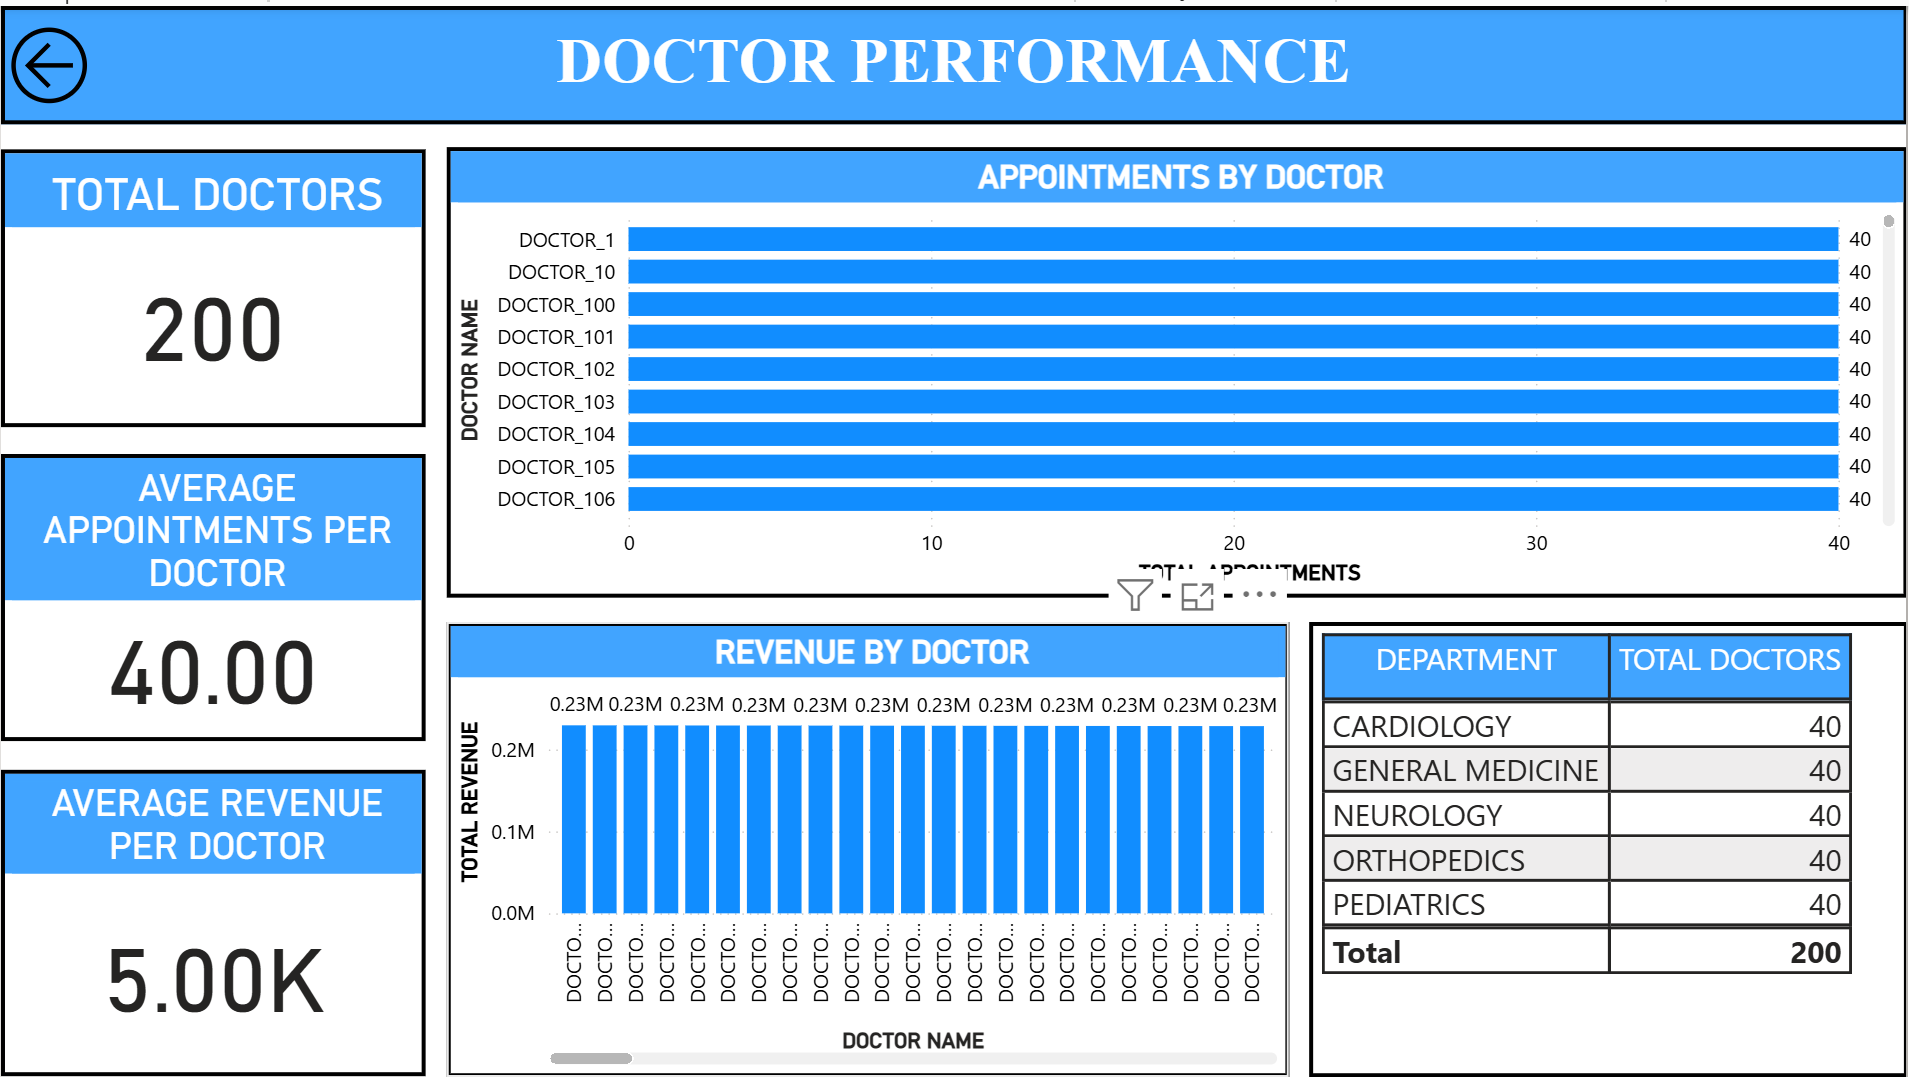

This screenshot's page, from the dashboard's own definition file:
{"tool":"powerbi","page":{"name":"DOCTOR PERFORMANCE","canvas":[1280,720],"ordinal":3},"visuals":[{"type":"clusteredBarChart","title":"APPOINTMENTS BY DOCTOR","fields":{"Y":["Sum(APPOINTMENTS BY DOCTOR.TOTAL_APPOINTMENTS)"],"Category":["APPOINTMENTS BY DOCTOR.DOCTOR_NAME"]},"box":[299.5,95.2,981.1,302.6],"z":0},{"type":"columnChart","title":"REVENUE BY DOCTOR","fields":{"Category":["REVENUE BY DOCTOR:.DOCTOR_NAME"],"Y":["Sum(REVENUE BY DOCTOR:.TOTAL_REVENUE)"]},"box":[299.5,413.4,566.2,305.7],"z":1000},{"type":"tableEx","fields":{"Values":["DOCTOR VS DEPARTMENT.DEPARTMENT","Sum(DOCTOR VS DEPARTMENT.TOTAL_DOCTORS)"]},"box":[878.2,413.4,402.4,305.7],"z":2000},{"type":"card","title":"AVERAGE REVENUE PER DOCTOR","fields":{"Values":["Sum(AVERAGE REVENUE PER DOCTOR.AVERAGE_REVENUE_PER_DOCTOR)"]},"box":[0,513.9,285.3,205.9],"z":3000},{"type":"card","title":"TOTAL DOCTORS","fields":{"Values":["Sum(TOTAL_DOCTORS.TOTAL_DOCTORS)"]},"box":[0,95.6,285.3,186.4],"z":4000},{"type":"card","title":"AVERAGE APPOINTMENTS PER DOCTOR","fields":{"Values":["Sum(Query1.AVG_APPOINTMENTS_PER_DOCTOR)"]},"box":[0,301.5,285.3,192.9],"z":5000},{"type":"textbox","box":[0,0,1280.7,79.4],"z":6000},{"type":"actionButton","box":[0,7.5,84.3,64.7],"z":6001}]}

Visuals, with their boxes in screenshot pixels (x1, y1, x2, y2), scaled from the page's 1280x720 canvas onto the 1909x1077 screenshot:
"APPOINTMENTS BY DOCTOR" clusteredBarChart: <bbox>447, 142, 1908, 595</bbox>
"REVENUE BY DOCTOR" columnChart: <bbox>447, 618, 1291, 1076</bbox>
tableEx - DOCTOR VS DEPARTMENT.DEPARTMENT x Sum(DOCTOR VS DEPARTMENT.TOTAL_DOCTORS): <bbox>1310, 618, 1908, 1076</bbox>
"AVERAGE REVENUE PER DOCTOR" card: <bbox>0, 769, 425, 1076</bbox>
"TOTAL DOCTORS" card: <bbox>0, 143, 425, 422</bbox>
"AVERAGE APPOINTMENTS PER DOCTOR" card: <bbox>0, 451, 425, 740</bbox>
textbox: <bbox>0, 0, 1908, 119</bbox>
actionButton: <bbox>0, 11, 126, 108</bbox>
